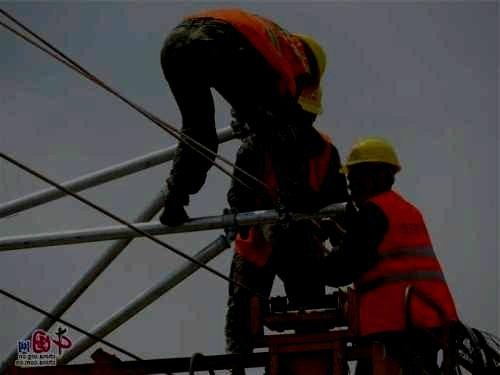helmet: (337, 134, 402, 198), (289, 32, 327, 89), (299, 85, 324, 131)
